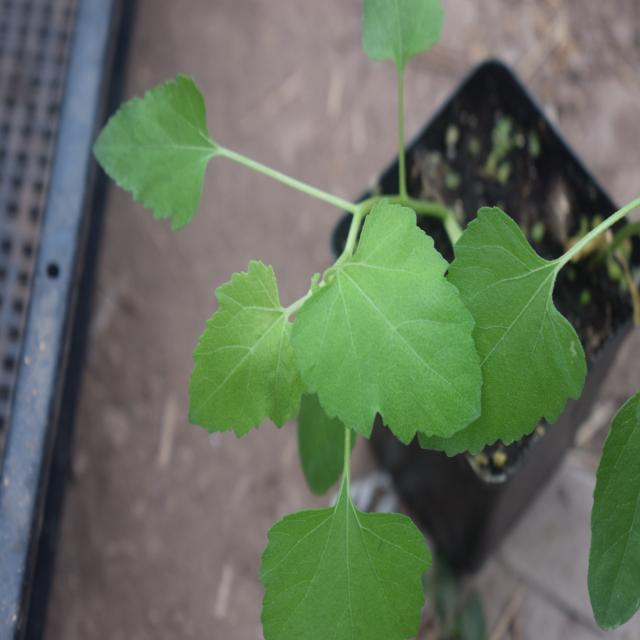cocklebur: (106, 96, 533, 605)
